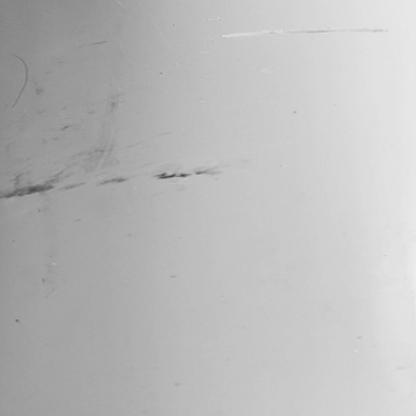sunshang: (220, 27, 391, 40), (11, 56, 30, 110)
